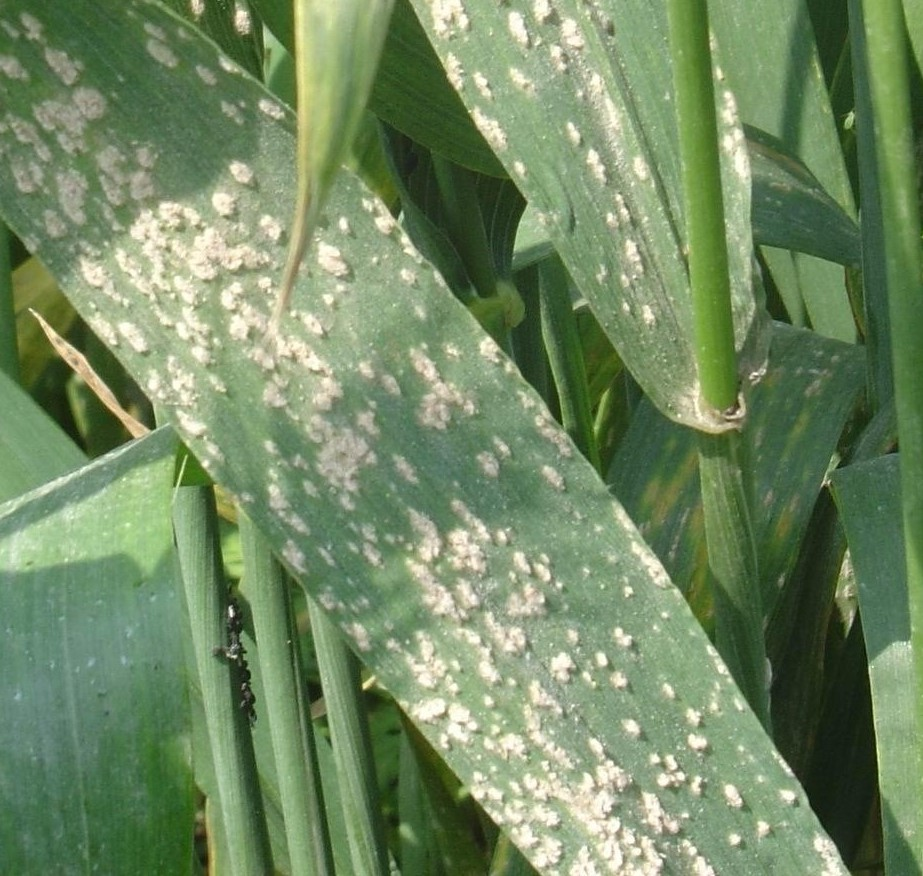Powdery Mildew: (119, 192, 763, 832)
